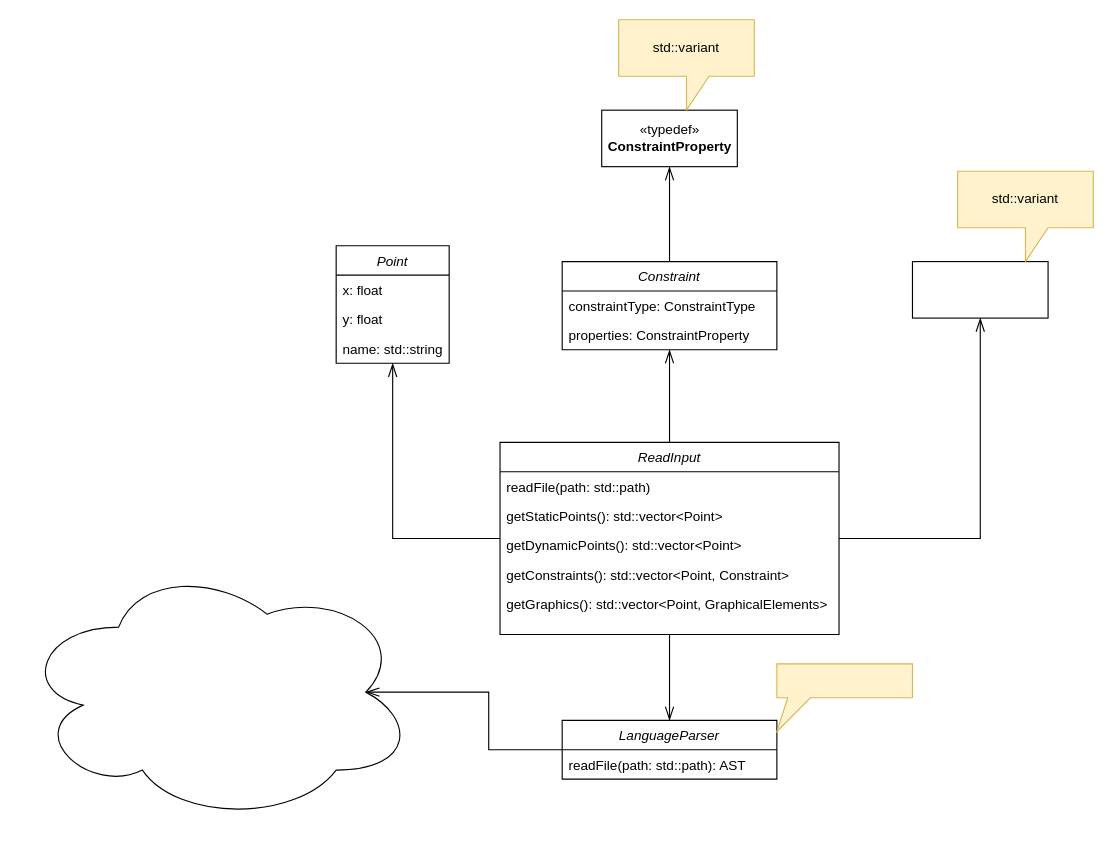
Image size: 1113x842. Some labels were removed from this diagram. The shapes that lost their labels are listed below. From the top down, each one's centre as x and y in pixels, then its label:
(x=979, y=289): «typedef» GraphicalElements
(x=217, y=691): Lexy submodule components
(x=844, y=697): To be defined
